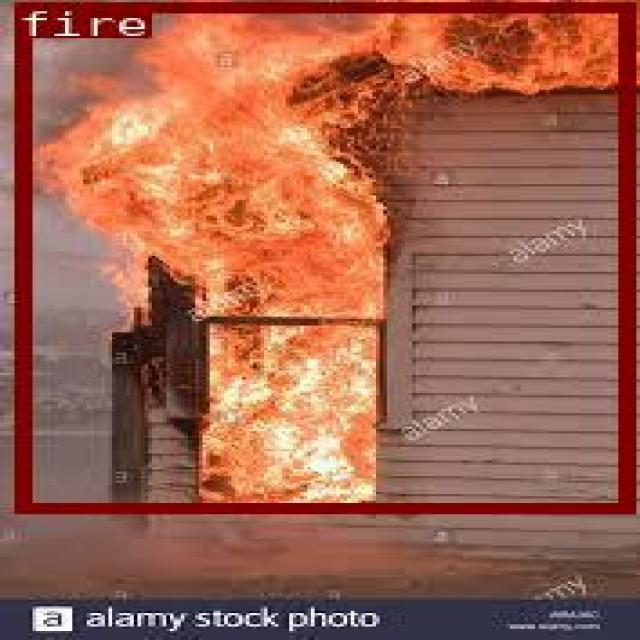fire: (12, 1, 631, 511)
